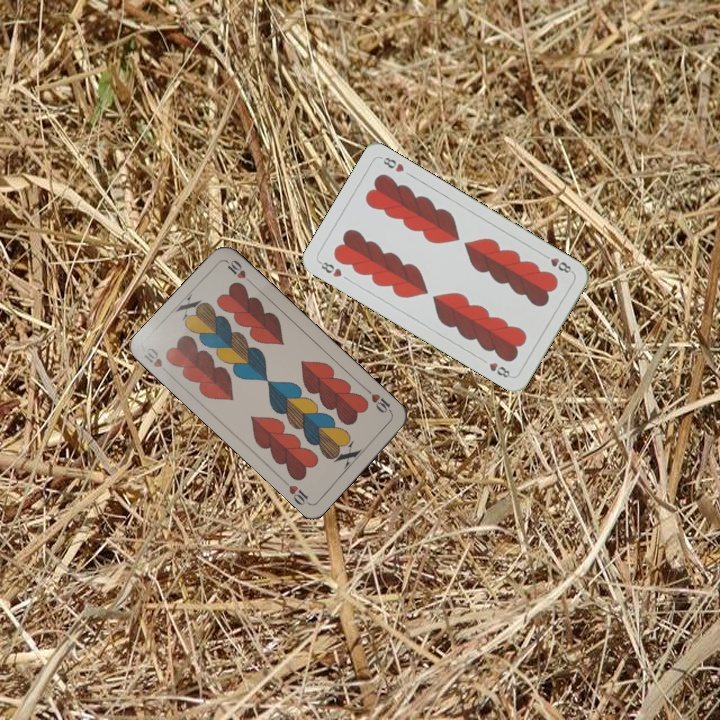H10: (140, 344, 173, 378), (362, 385, 395, 416)
H8: (539, 250, 576, 276), (315, 257, 344, 280)
